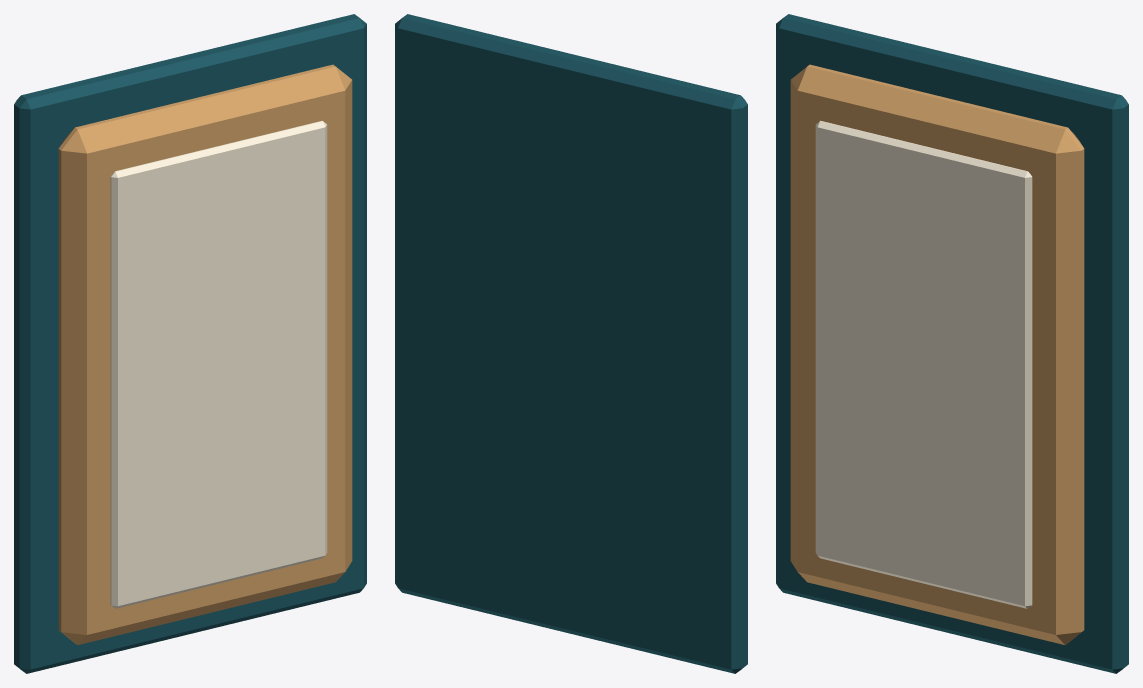
The model's file is wall_panel.glb.
3 views of the same model, side by side, from view 1: azimuth 30°, elevation 25°; view 2: azimuth 150°, elevation 25°; view 3: azimuth 330°, elevation 25° (orthographic).
Parts seen in each view (by area): view 1: wall_panel; view 2: wall_panel; view 3: wall_panel.
Part boxes in pixels (x1,y1,x2,y2): wall_panel: [14, 14, 366, 673]; wall_panel: [395, 14, 747, 673]; wall_panel: [776, 14, 1128, 673].
Size of the model in its own units: 0.74 by 1.17 by 0.14.
